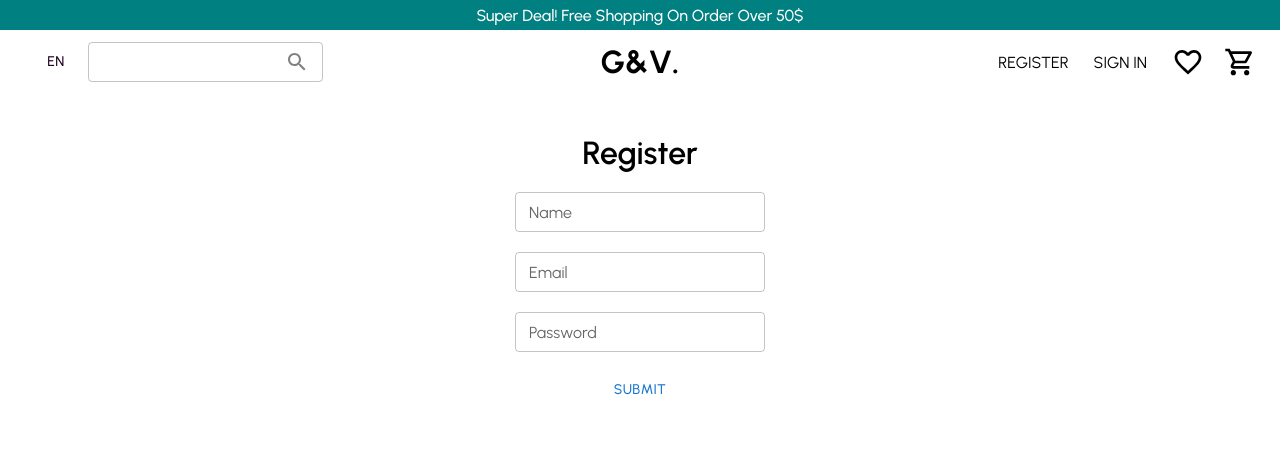
Scenario: Schemas validators should display error messages for name, email and password fields › email schema error
Step 1. Type "lol33" into the element with test id "name-input" → (640, 212), box [515,192,765,232]
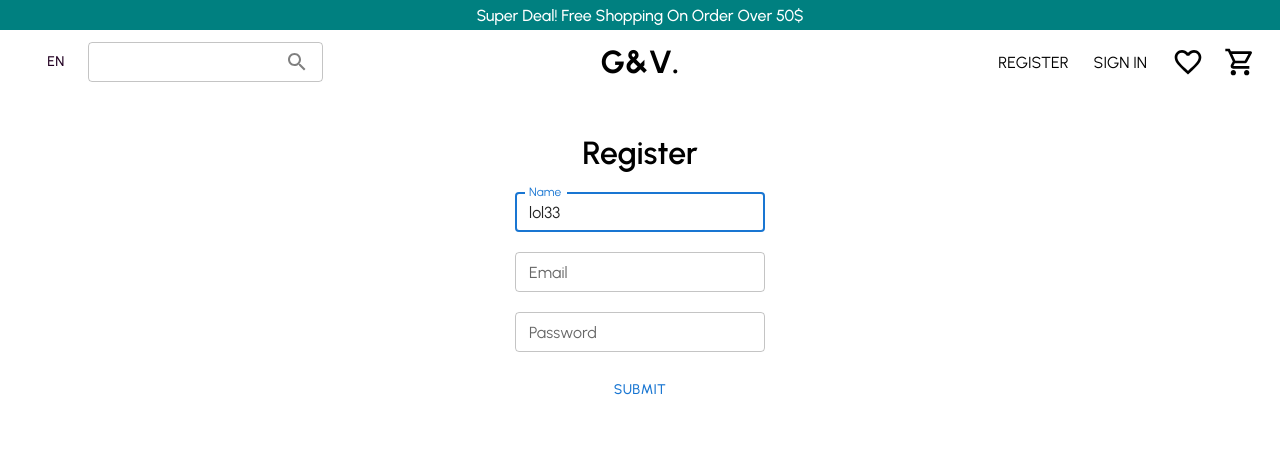
Step 2. Type "lol33@gmail." into the element with test id "email-input" → (640, 272), box [515,252,765,292]
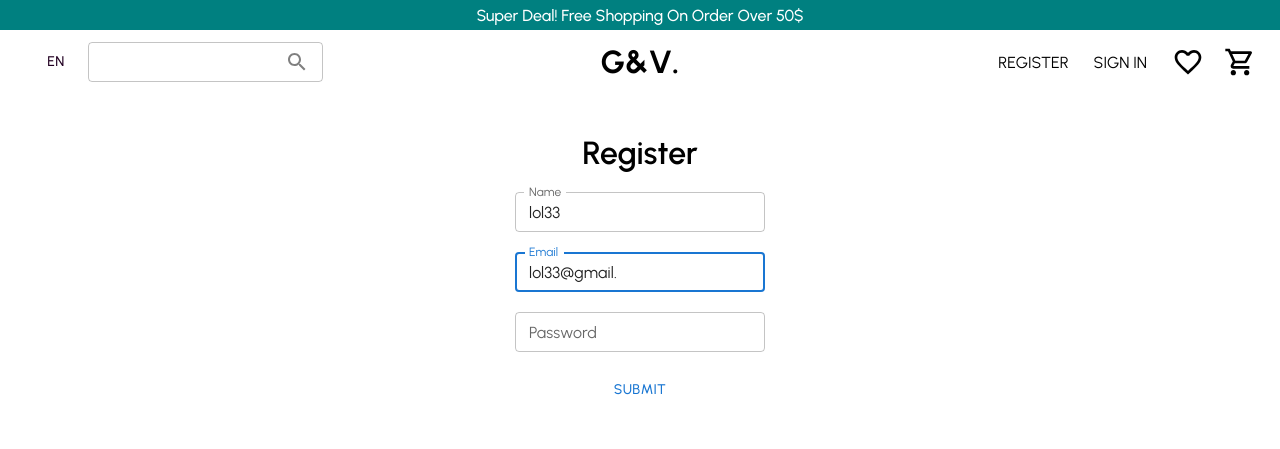
Step 3. Type "lolcontraseñasegura" into the element with test id "password-input" → (640, 332), box [515,312,765,352]
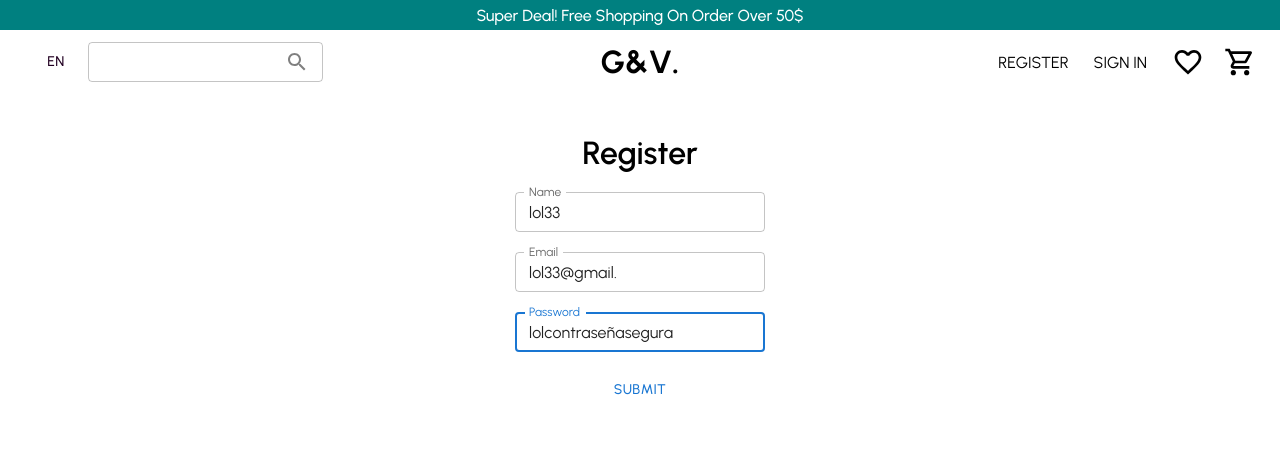
Step 4. Click the button with id "send-login" → (641, 391), box [606,372,675,409]
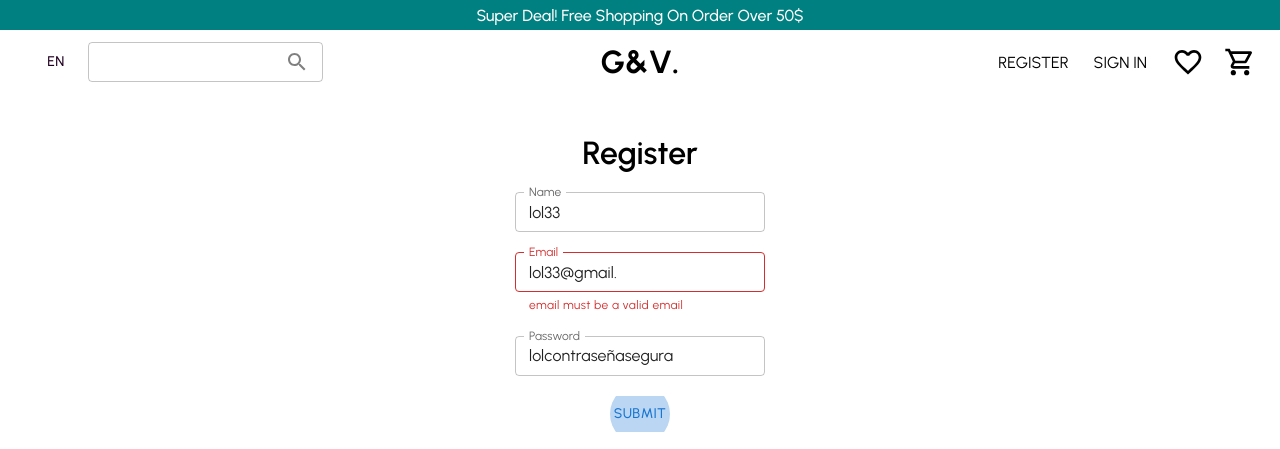
Result: the text "email must be a valid email" is shown at [529,298,683,312]
